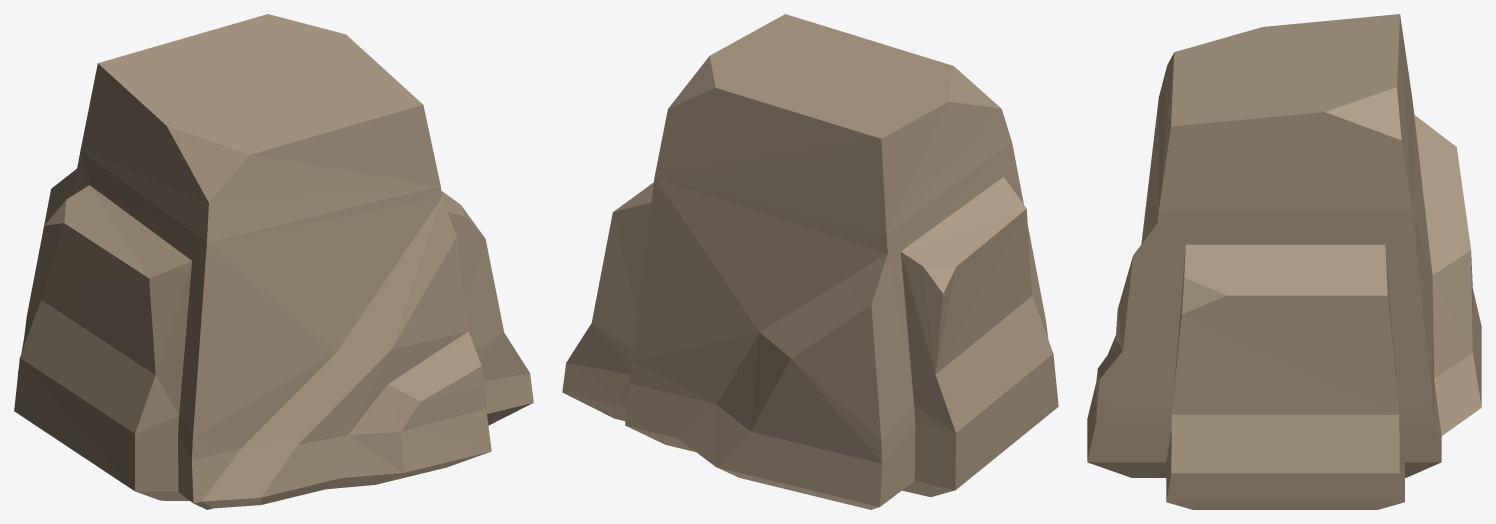
Rendered from SM_Env_Rock_09.fbx.
3 renders of one model, left to right at view 1: azimuth 30°, elevation 25°; view 2: azimuth 150°, elevation 25°; view 3: azimuth 270°, elevation 25°, orthographic.
Visible parts, largest first — view 1: SM_Env_Rock_09; view 2: SM_Env_Rock_09; view 3: SM_Env_Rock_09.
Boxes of the visible parts, x1=… form: SM_Env_Rock_09: x1=14, y1=14, x2=533, y2=509; SM_Env_Rock_09: x1=562, y1=14, x2=1058, y2=509; SM_Env_Rock_09: x1=1087, y1=14, x2=1481, y2=509.
Bounding box in the file's own units: 0.00779 × 0.00687 × 0.00667.
Materials: 1 (1 with a texture image).
